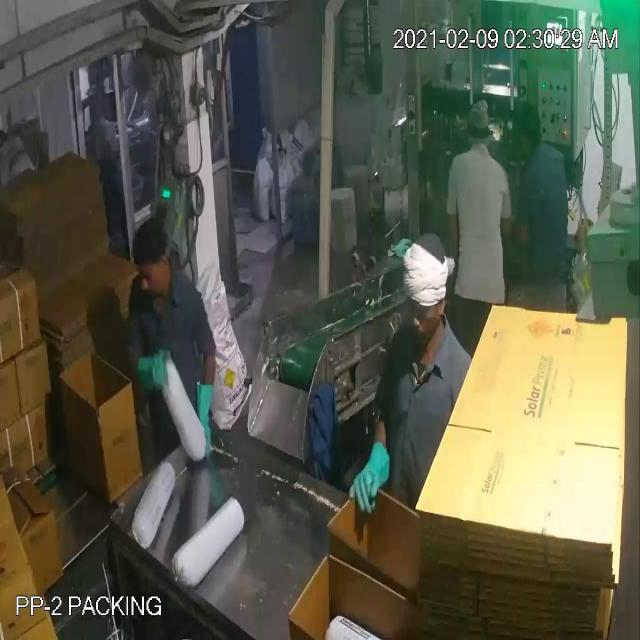Gloves: (26, 64, 454, 478)
